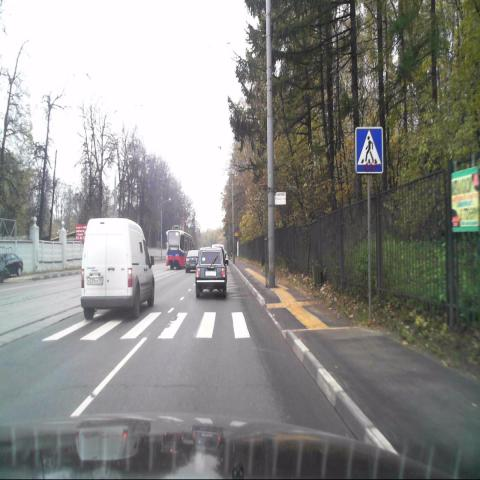5_19_1: (355, 128, 383, 172)
